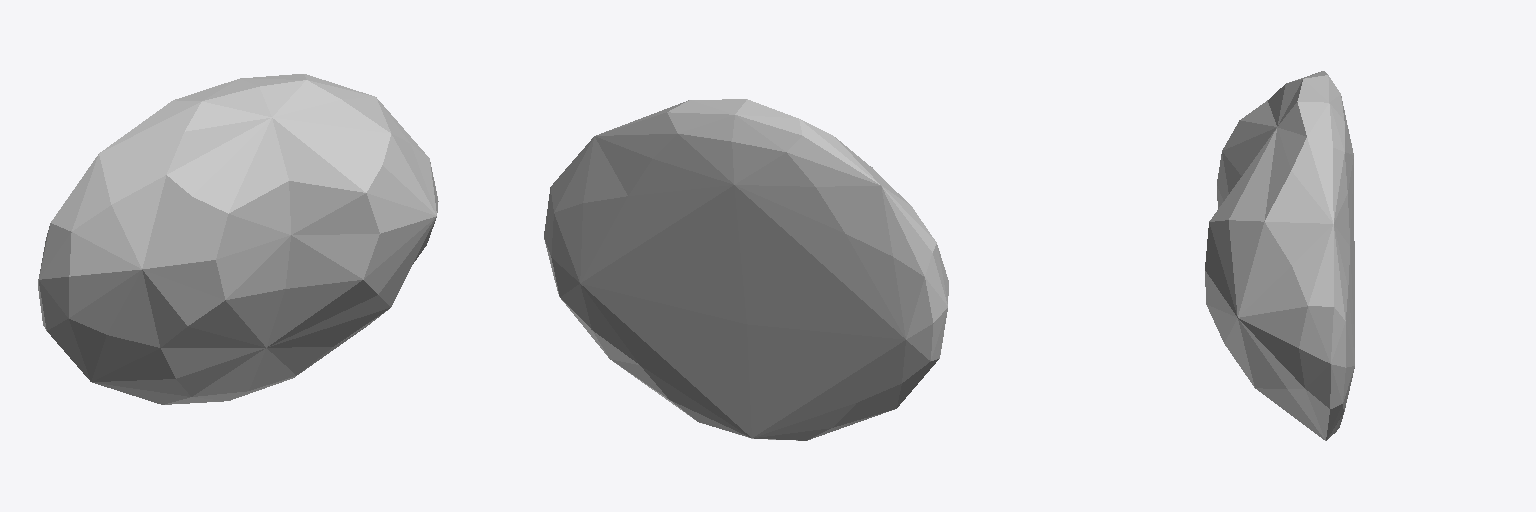
Rendered from stone_02.obj.
3 views of the same model, side by side, from view 1: azimuth 30°, elevation 25°; view 2: azimuth 150°, elevation 25°; view 3: azimuth 270°, elevation 25° (orthographic).
Visible parts, largest first — view 1: (null); view 2: (null); view 3: (null).
Boxes of the visible parts, box(x1,y1,x2,y2) form: (null): box(38, 74, 438, 404); (null): box(544, 99, 948, 440); (null): box(1205, 71, 1354, 440).
Size of the model in its own units: 4.31 by 3.31 by 1.41.